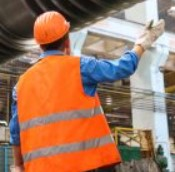worker: (16, 11, 122, 171)
